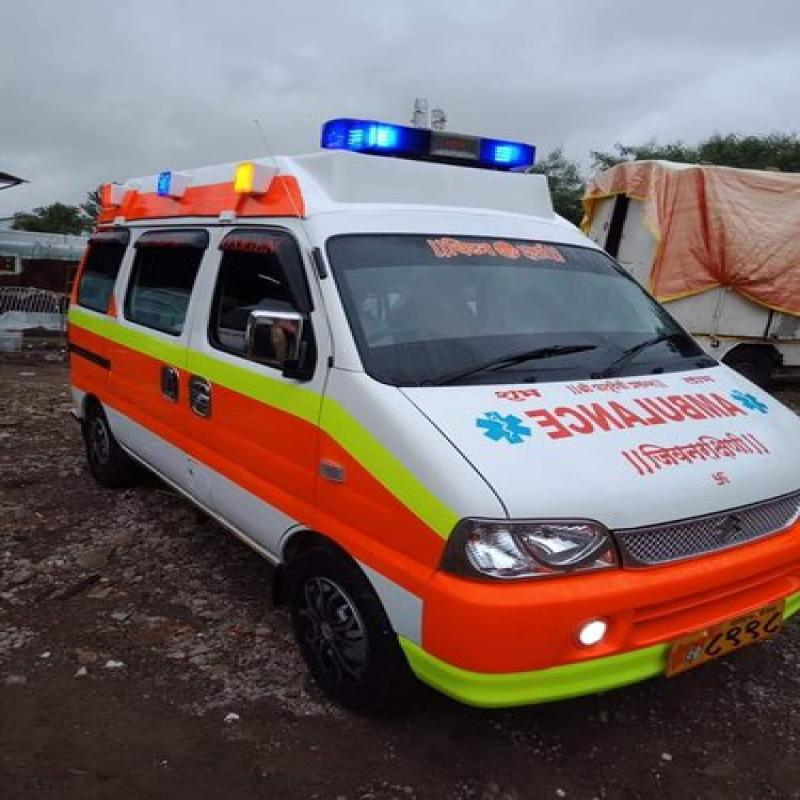ambulance: (60, 135, 790, 702)
